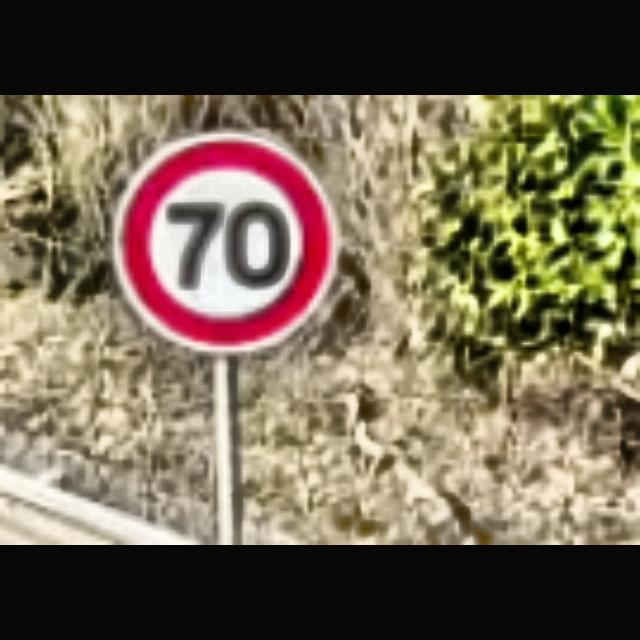speed_70: (114, 134, 340, 358)
